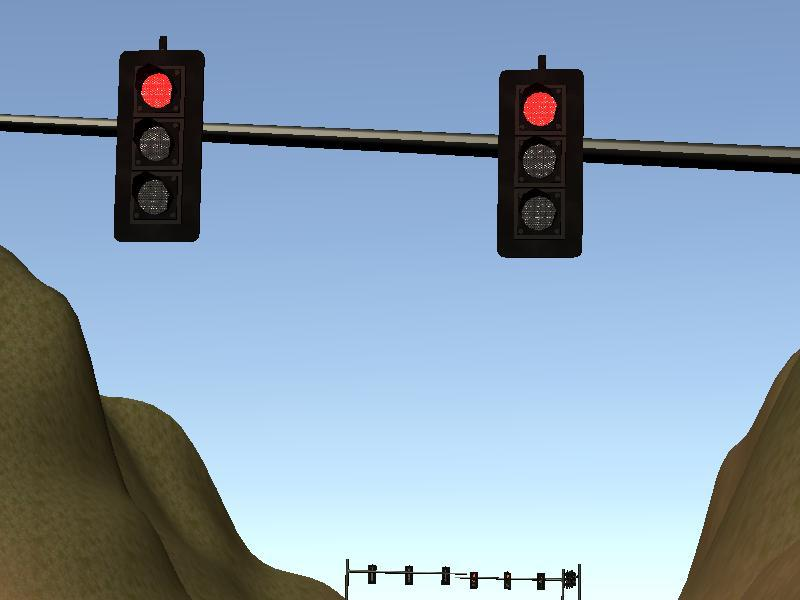Red: (503, 73, 581, 255), (121, 53, 196, 237)
